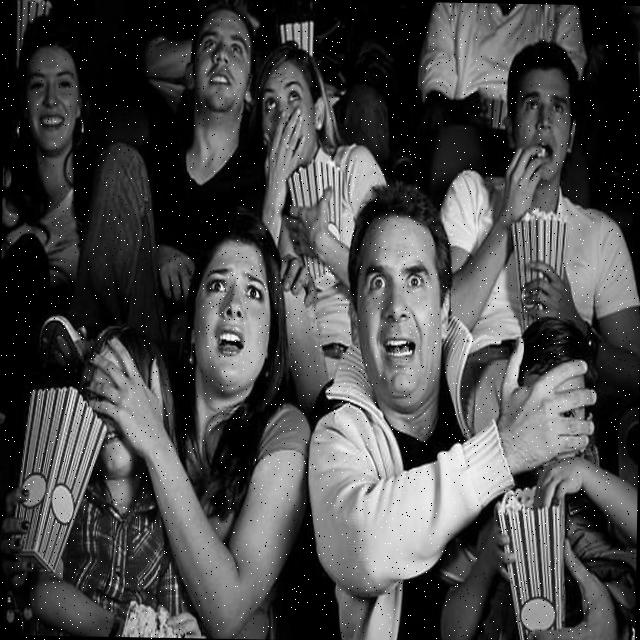Fear: (354, 217, 440, 398), (193, 243, 272, 386)
